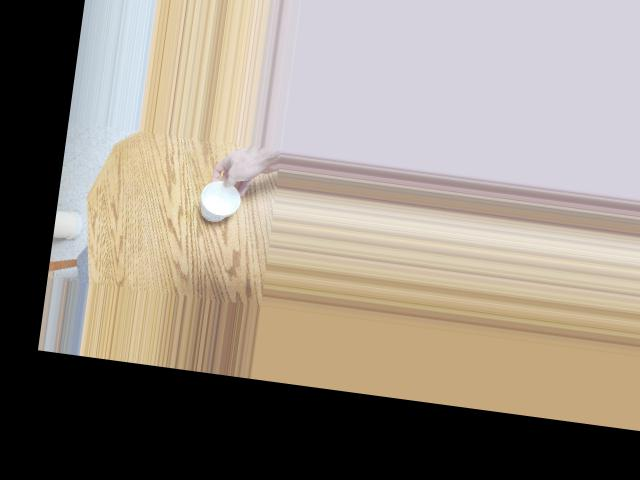cotage: (199, 175, 246, 218)
